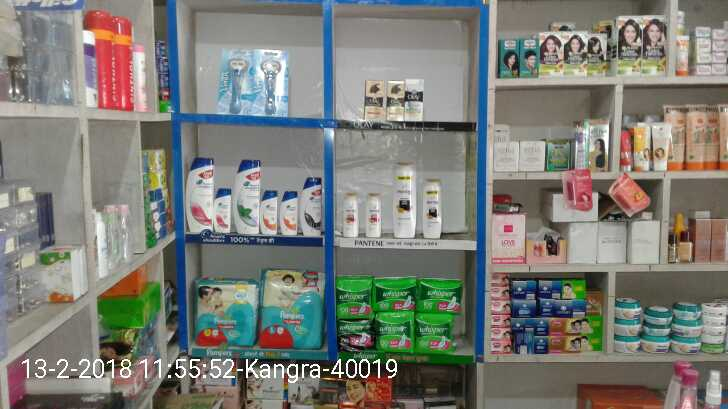venus: (253, 47, 289, 117), (222, 50, 252, 117)
